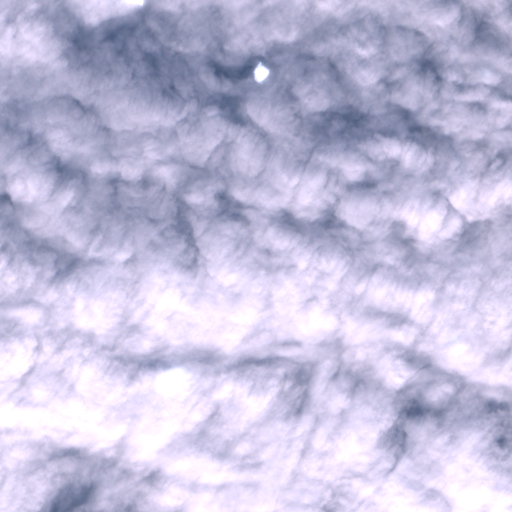Iceberg: (253, 62, 269, 81)
